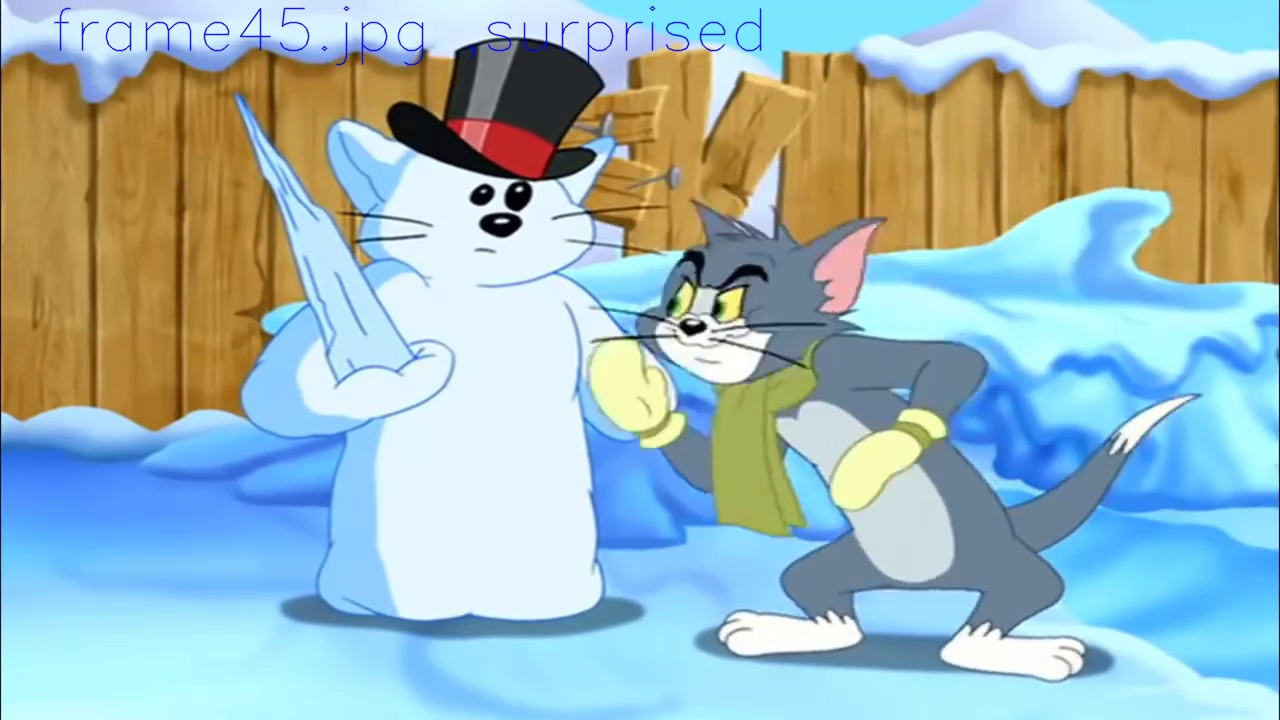angry: (667, 248, 778, 387)
